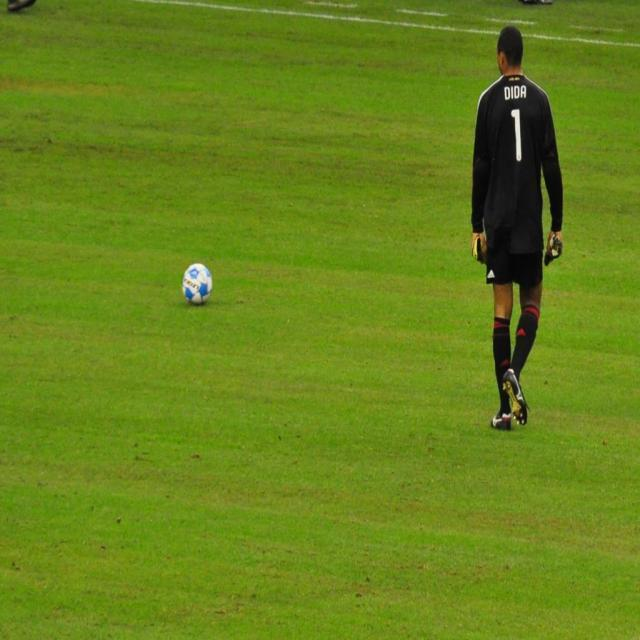football: (169, 249, 226, 316)
